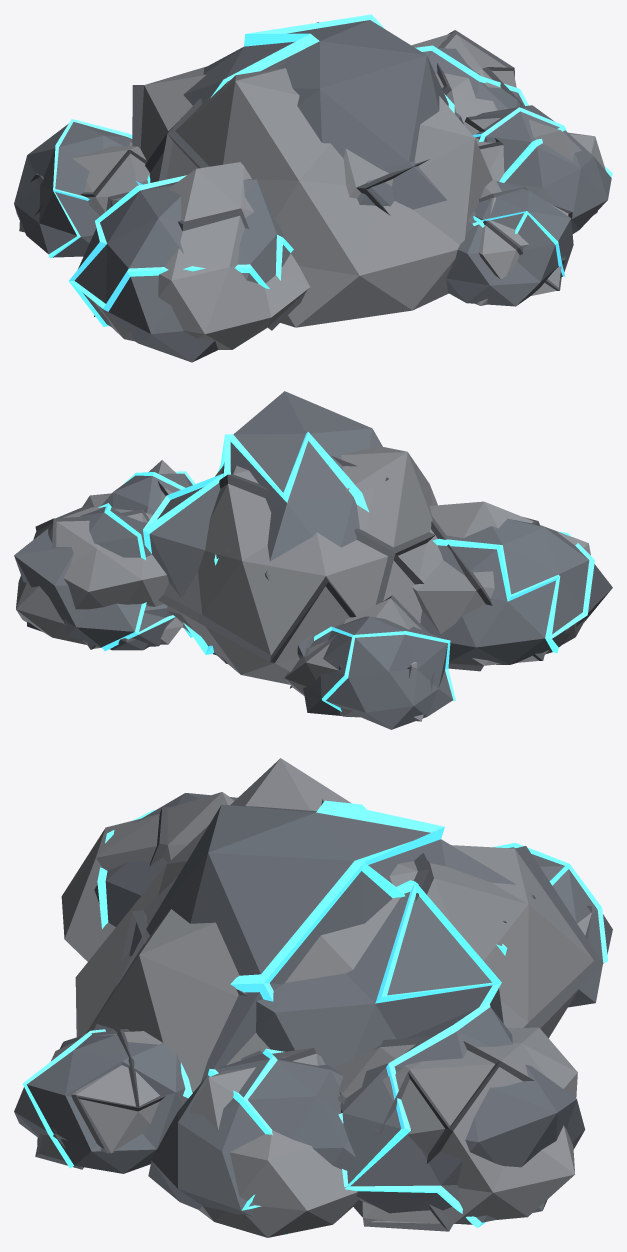
Rendered from ore.glb.
The picture shows the model from 3 angles, top to bottom: view 1: azimuth 30°, elevation 25°; view 2: azimuth 150°, elevation 25°; view 3: azimuth 270°, elevation 25°; orthographic projection. The views are drawn at different scales.
Visible parts, largest first — view 1: ore_variant_5, ore_variant_2, ore_variant_1, ore_variant_4, ore_variant_0, ore_variant_3; view 2: ore_variant_5, ore_variant_0, ore_variant_2, ore_variant_1, ore_variant_3, ore_variant_4; view 3: ore_variant_5, ore_variant_2, ore_variant_0, ore_variant_3, ore_variant_1, ore_variant_4.
Part boxes in pixels (x1,y1,x2,y2): ore_variant_5: [132, 22, 605, 327]; ore_variant_2: [180, 14, 612, 233]; ore_variant_1: [69, 175, 573, 362]; ore_variant_4: [94, 162, 572, 349]; ore_variant_0: [14, 45, 528, 258]; ore_variant_3: [19, 30, 522, 232]; ore_variant_5: [82, 445, 437, 684]; ore_variant_0: [14, 471, 455, 729]; ore_variant_2: [101, 391, 382, 658]; ore_variant_1: [110, 518, 612, 664]; ore_variant_3: [16, 455, 434, 721]; ore_variant_4: [160, 501, 590, 671]; ore_variant_5: [75, 758, 603, 1237]; ore_variant_2: [94, 800, 535, 1234]; ore_variant_0: [129, 843, 612, 1227]; ore_variant_3: [121, 799, 591, 1231]; ore_variant_1: [14, 793, 507, 1173]; ore_variant_4: [35, 792, 234, 1169].
Bounding box in the file's own units: 0.1549 × 0.059 × 0.1169.
